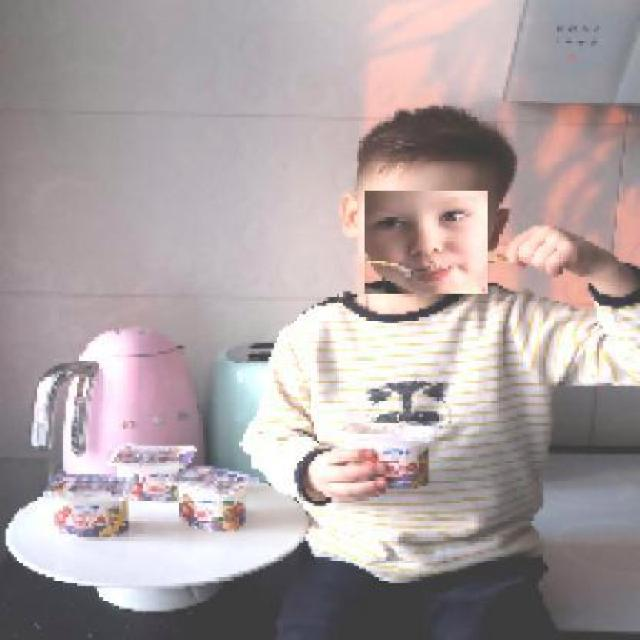child: (234, 105, 640, 638), (363, 191, 488, 295)
